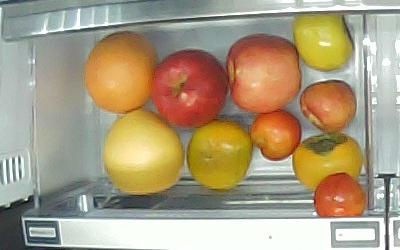apple: (149, 48, 226, 129), (227, 33, 303, 114)
grapefruit: (102, 108, 184, 195), (83, 31, 156, 116)
persimmon: (185, 122, 253, 190), (292, 134, 362, 189), (292, 14, 356, 74)
prune: (299, 79, 356, 133), (250, 107, 302, 162), (312, 171, 366, 216)
